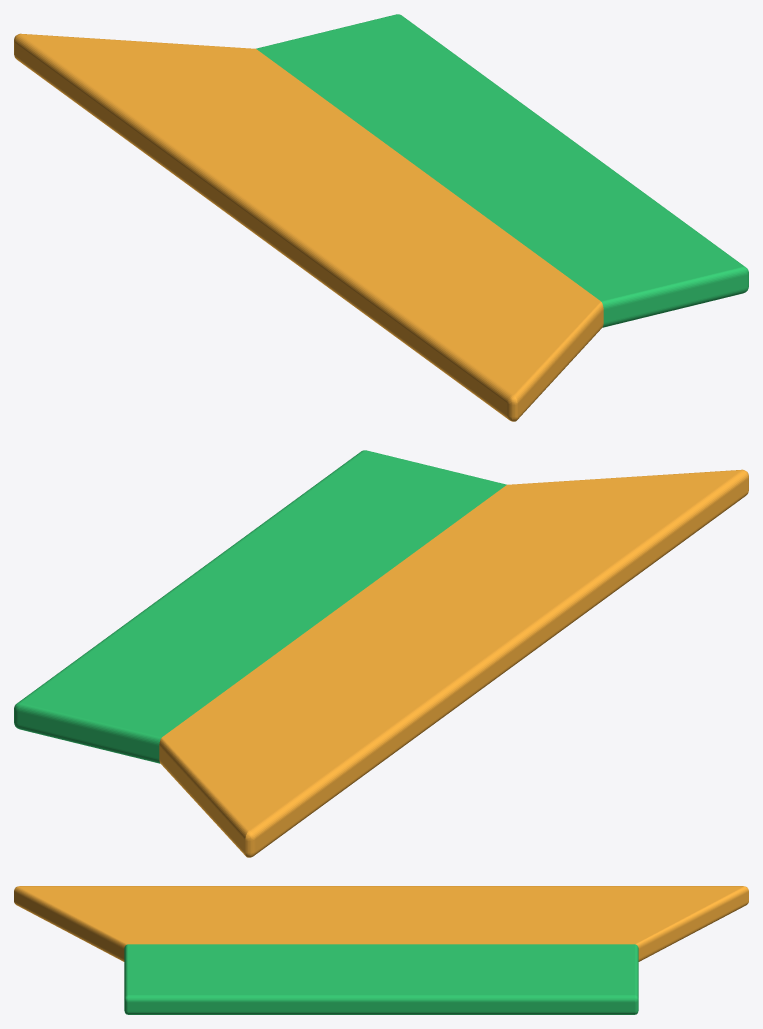
The model's file is Platform5.fbx.
3 renders of one model, top to bottom at view 1: azimuth 30°, elevation 25°; view 2: azimuth 150°, elevation 25°; view 3: azimuth 270°, elevation 25°, orthographic. The views are drawn at different scales.
Visible parts, largest first — view 1: Cube_1; view 2: Cube_1; view 3: Cube_1.
Boxes of the visible parts, bbox=[...] form: Cube_1: bbox=[14, 14, 748, 421]; Cube_1: bbox=[14, 450, 748, 857]; Cube_1: bbox=[14, 886, 748, 1014].
Bounding box in the file's own units: 1455 × 116 × 4000.
